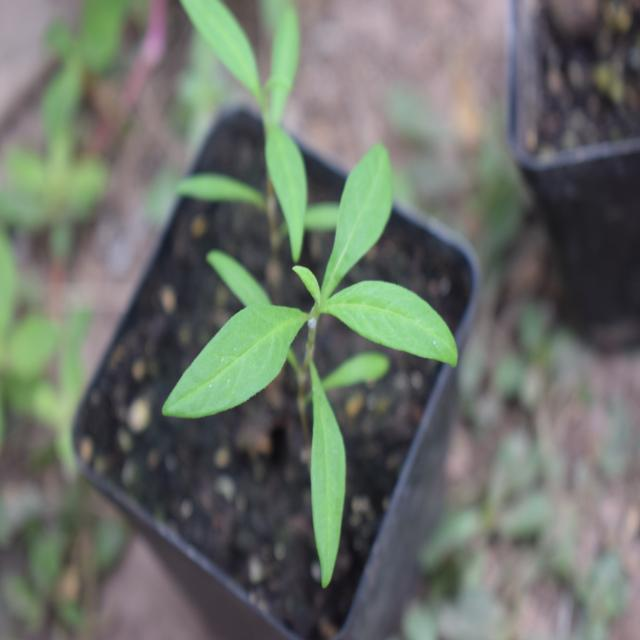white_smart_weed: (158, 173, 472, 556)
